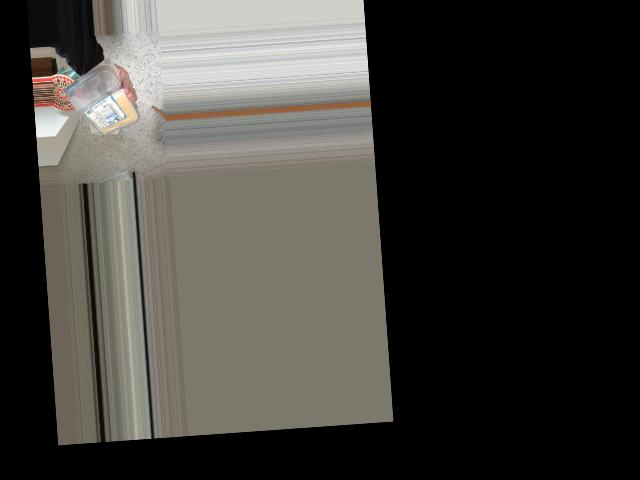cheese: (62, 68, 132, 142)
